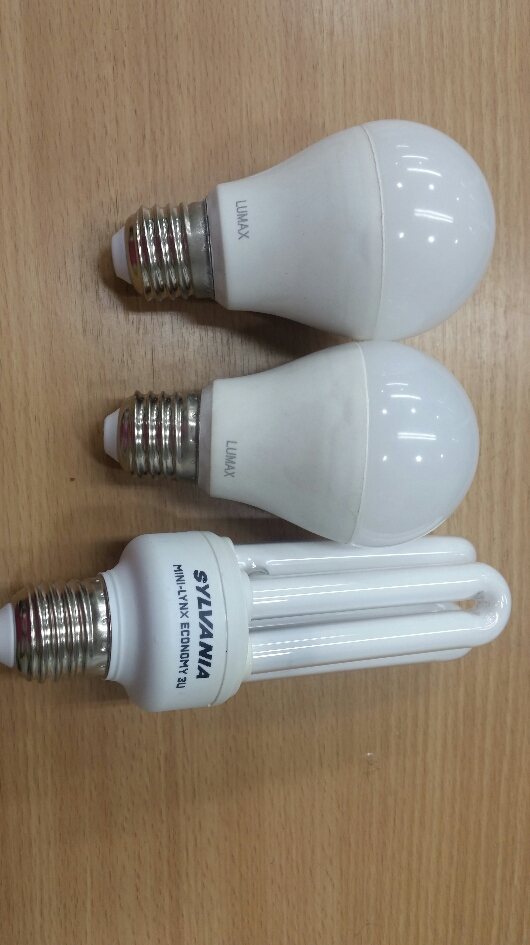Light bulb: (3, 527, 518, 716), (102, 114, 502, 348), (90, 337, 485, 554)
